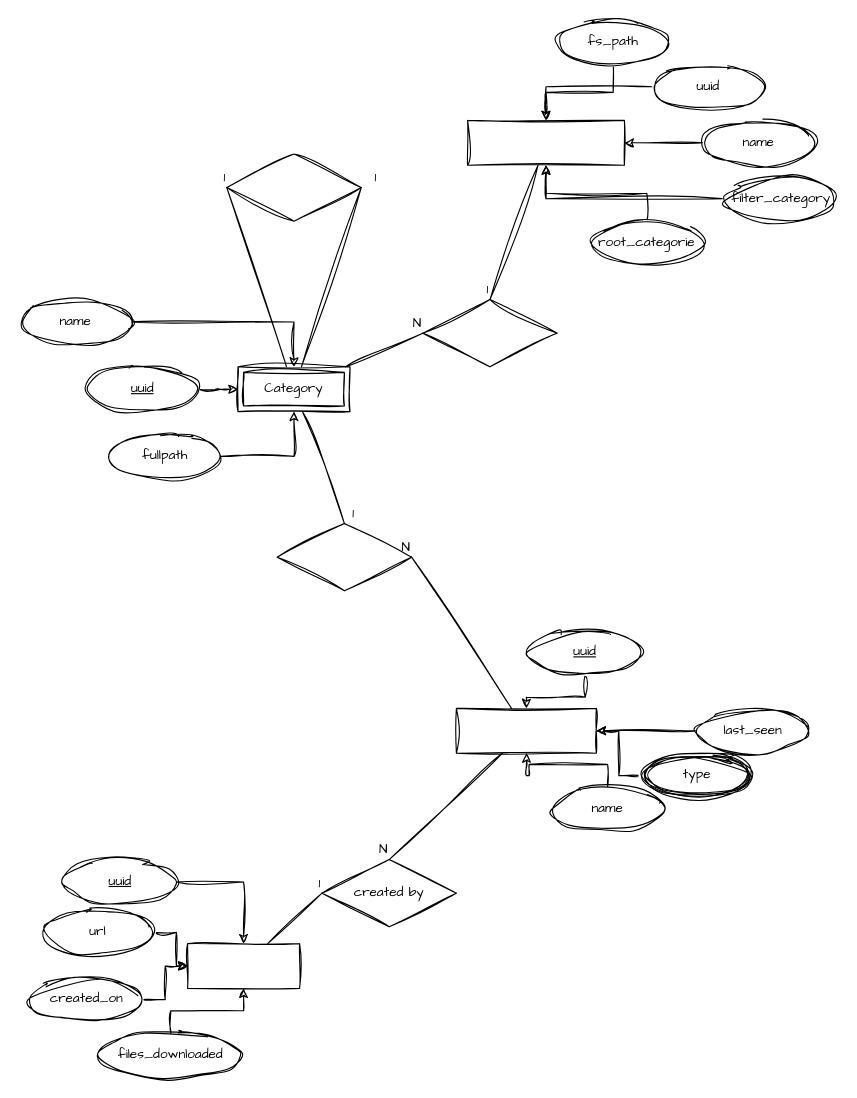
The diagram is 857 pixels wide and 1098 high, and some of its shapes have lost their labels. Here are the shapes that lost their labels. From the top down, the box of each, then its label:
(466, 119, 624, 165): categories_clouster
(226, 153, 361, 221): Is parent of
(422, 298, 557, 367): part of
(276, 522, 412, 591): classifies
(455, 707, 596, 753): Media
(186, 942, 300, 988): Downloads
